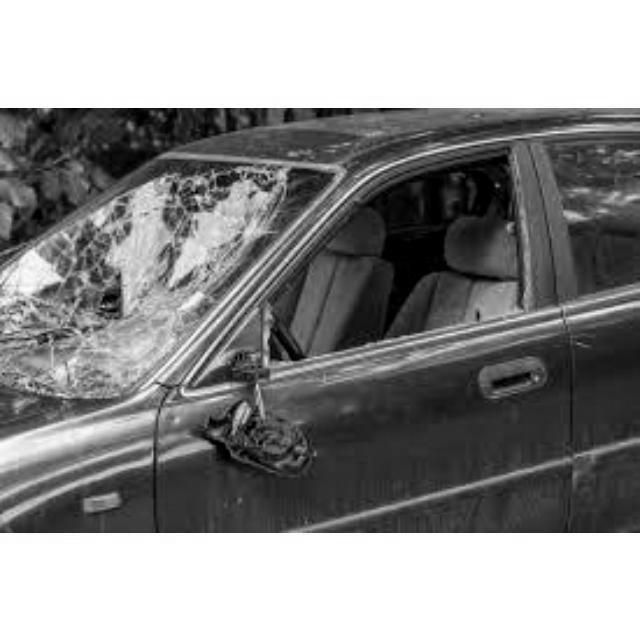Front-windscreen-damage: (0, 156, 342, 391)
Sidemirror-Damage: (200, 389, 316, 491)
